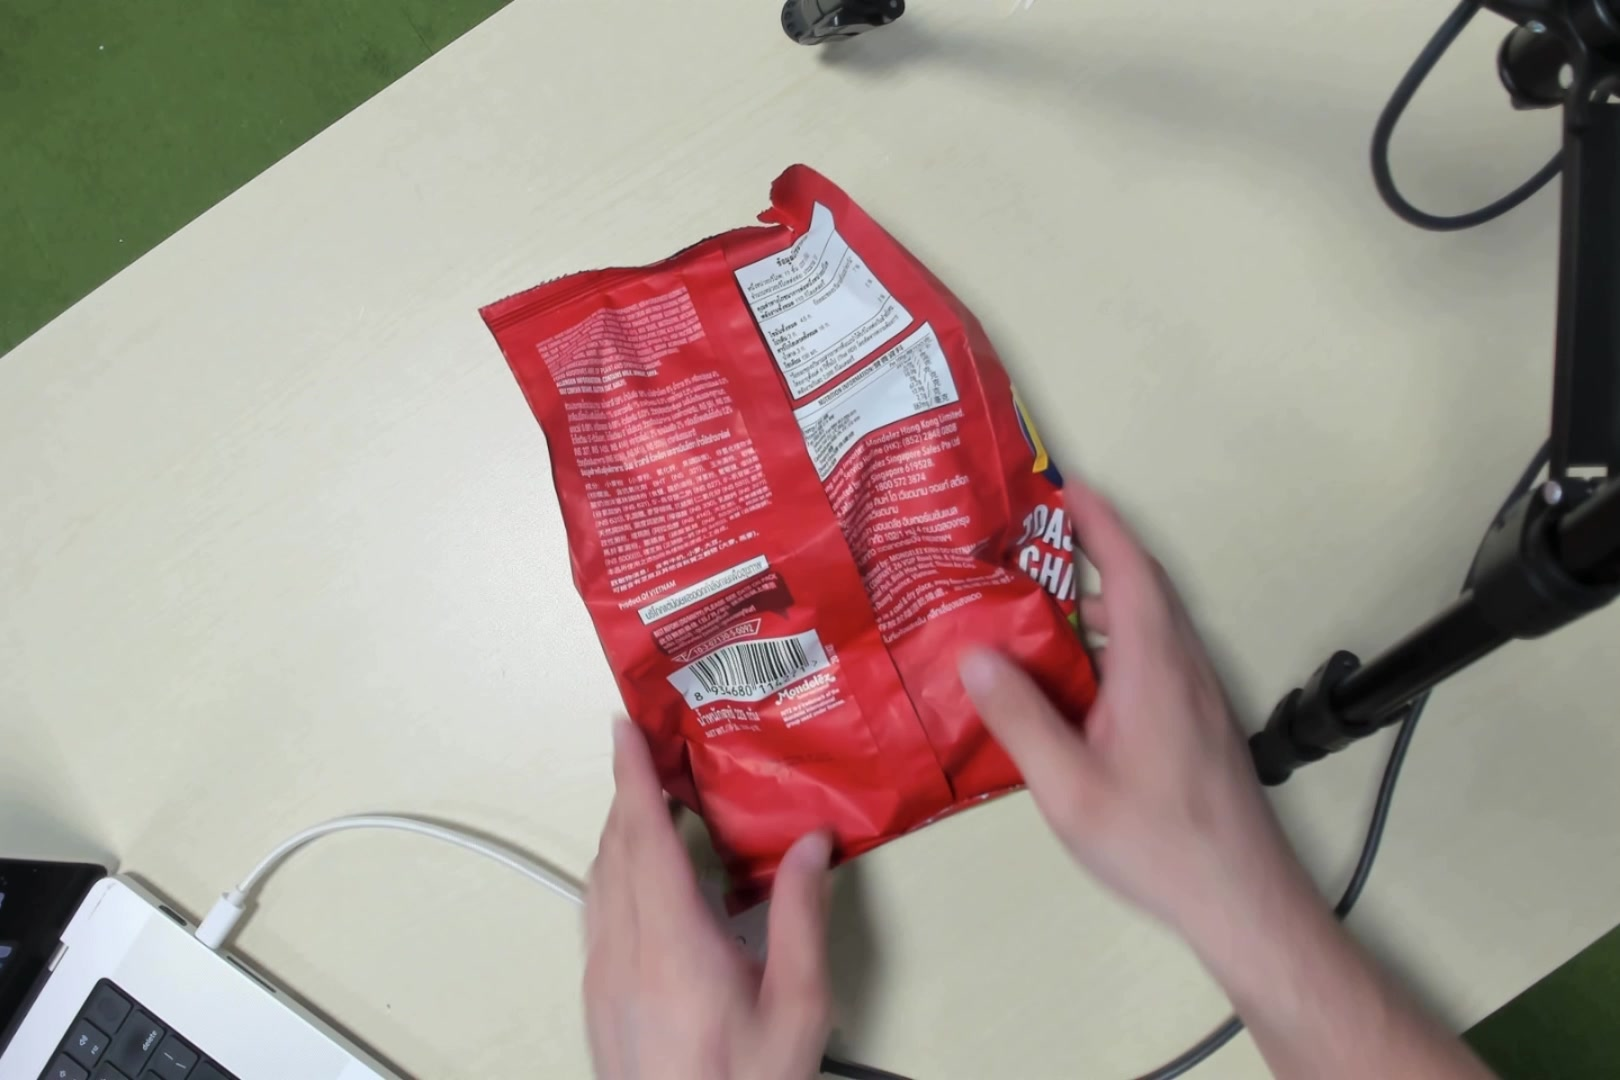BiscuitsCrackersCookies_200-299g_NonHalal_NonHealthy: (560, 210, 1043, 862)
